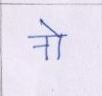o_matra: (50, 24, 65, 60)
